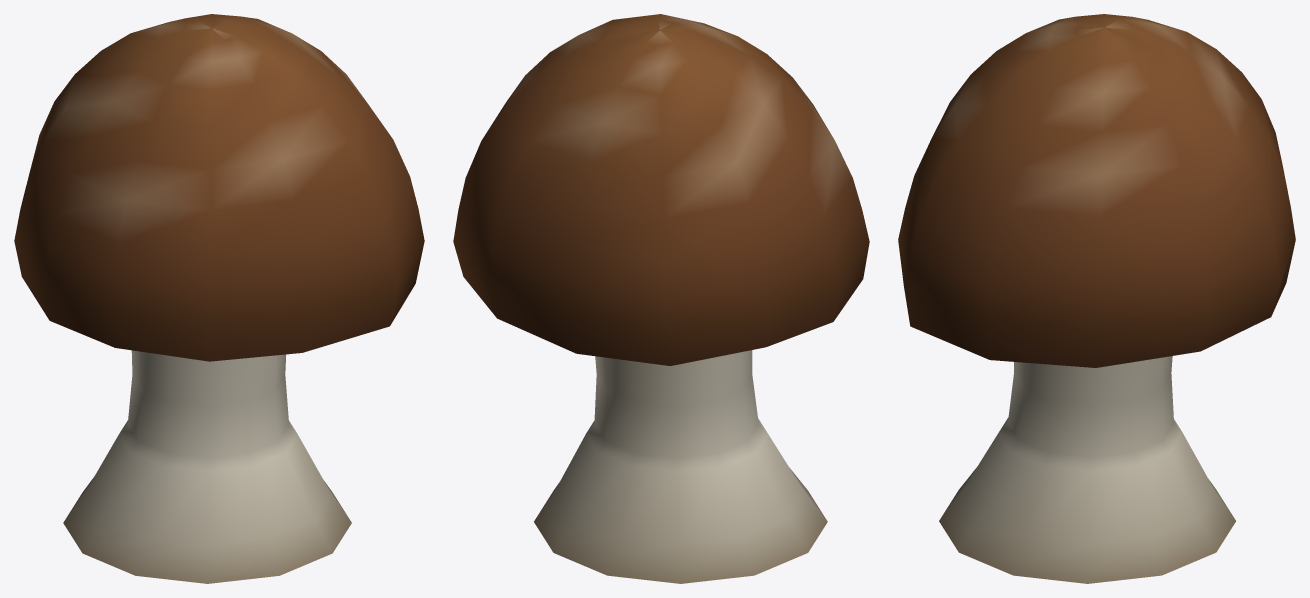
File: mushroom-bolete-a.glb
The picture shows the model from 3 angles, left to right: view 1: azimuth 30°, elevation 25°; view 2: azimuth 150°, elevation 25°; view 3: azimuth 270°, elevation 25°; orthographic projection. The views are drawn at different scales.
Parts seen in each view (by area): view 1: mushroom-bolete-a; view 2: mushroom-bolete-a; view 3: mushroom-bolete-a.
Part boxes in pixels (<box>): mushroom-bolete-a: <box>14,14,424,583</box>; mushroom-bolete-a: <box>453,14,869,583</box>; mushroom-bolete-a: <box>898,14,1295,583</box>.
Bounding box in the file's own units: 0.1885 × 0.25 × 0.1803.
